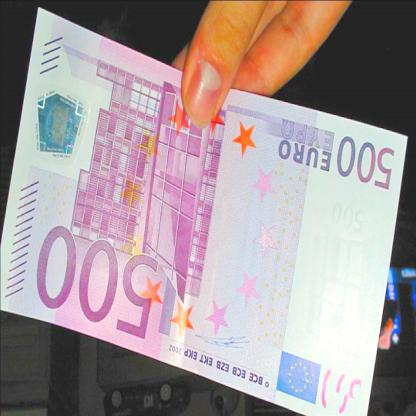euro_banknote: (41, 75, 378, 370)
